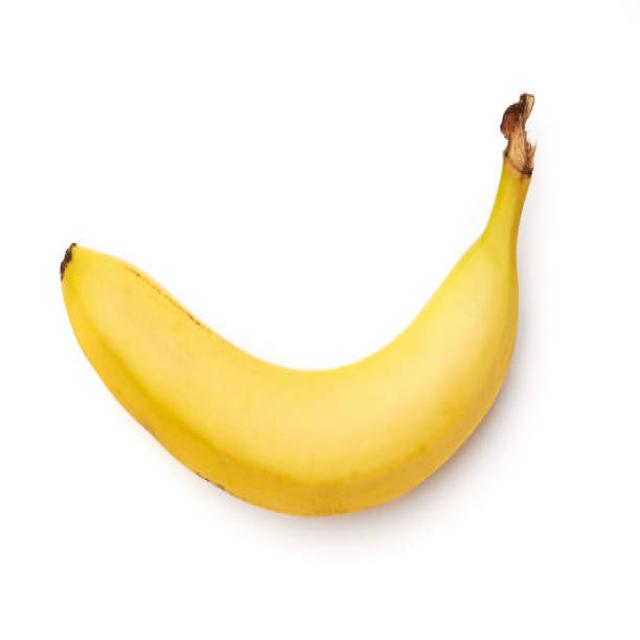Ripe: (58, 146, 525, 523)
